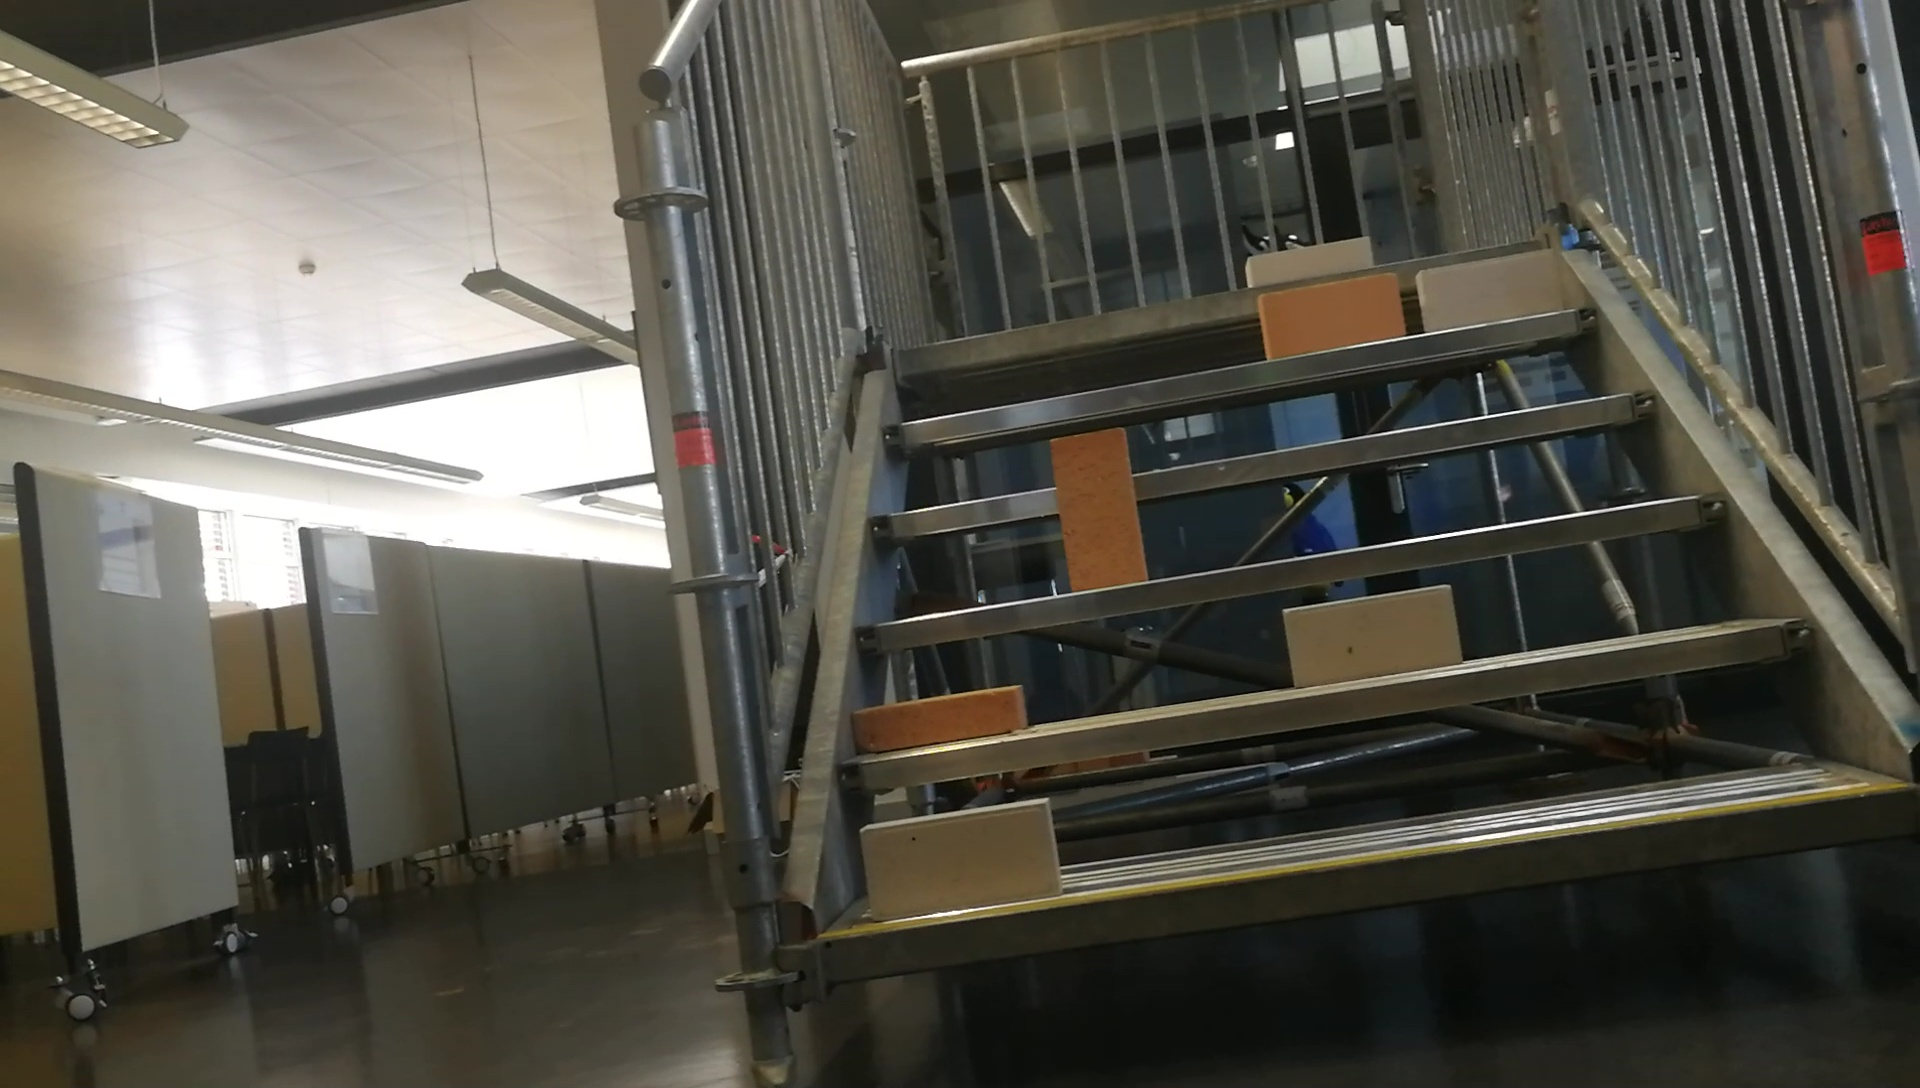brick: (862, 797, 1058, 918), (1288, 588, 1460, 684), (1052, 427, 1149, 591), (857, 683, 1022, 760), (1258, 273, 1398, 359), (1418, 253, 1557, 328), (1245, 233, 1370, 287)
edge: (824, 783, 1911, 977), (840, 620, 1812, 801), (855, 487, 1722, 655), (868, 380, 1655, 543), (884, 302, 1594, 448)
stairs: (616, 7, 1920, 1088)
steps: (779, 226, 1920, 1004)
